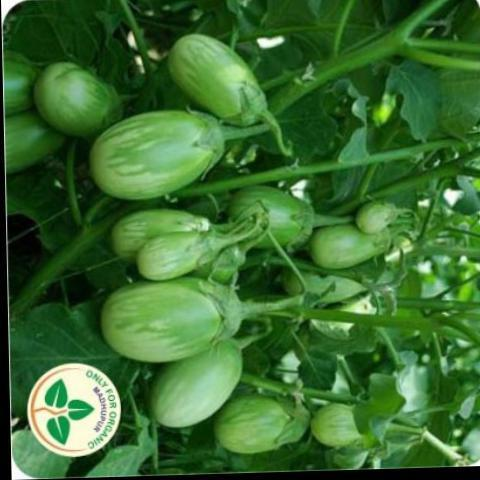eggplant: (10, 30, 270, 218), (106, 192, 255, 460), (192, 389, 359, 471), (269, 205, 401, 293)
